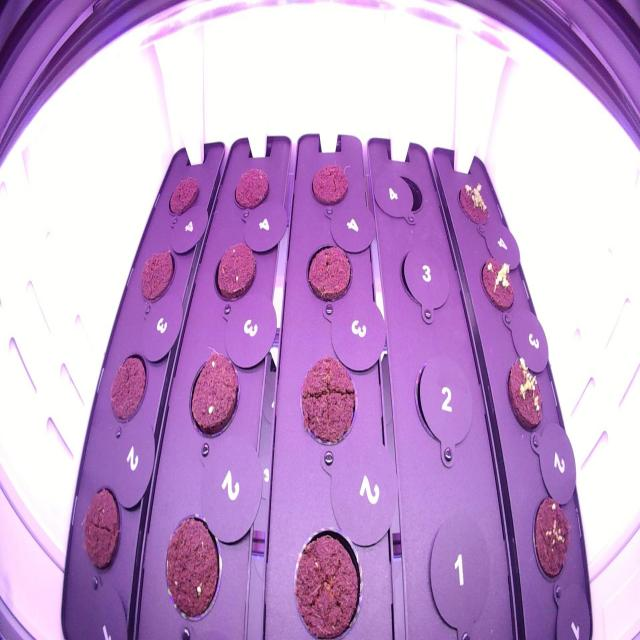empty_pod: (421, 508, 496, 639), (410, 354, 478, 449), (393, 241, 454, 318), (378, 162, 425, 230)
germination: (528, 485, 575, 588), (502, 349, 548, 442), (476, 250, 519, 318), (452, 173, 494, 234)
pod: (287, 516, 368, 640), (161, 508, 226, 629), (183, 341, 246, 446), (296, 350, 361, 450), (80, 474, 126, 582), (207, 233, 261, 311), (106, 341, 150, 430), (302, 237, 356, 308), (135, 241, 179, 309), (305, 154, 353, 214), (228, 160, 275, 217), (165, 168, 201, 224)
